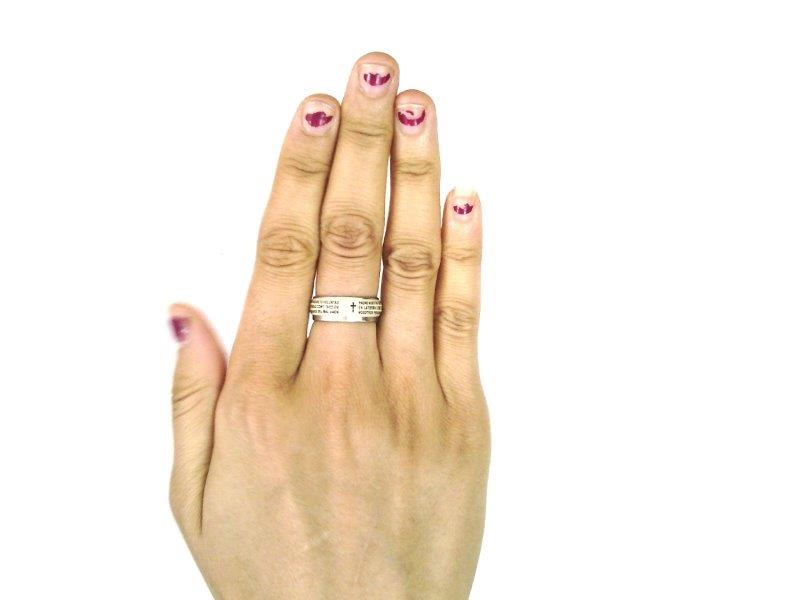hand: (169, 52, 490, 591)
